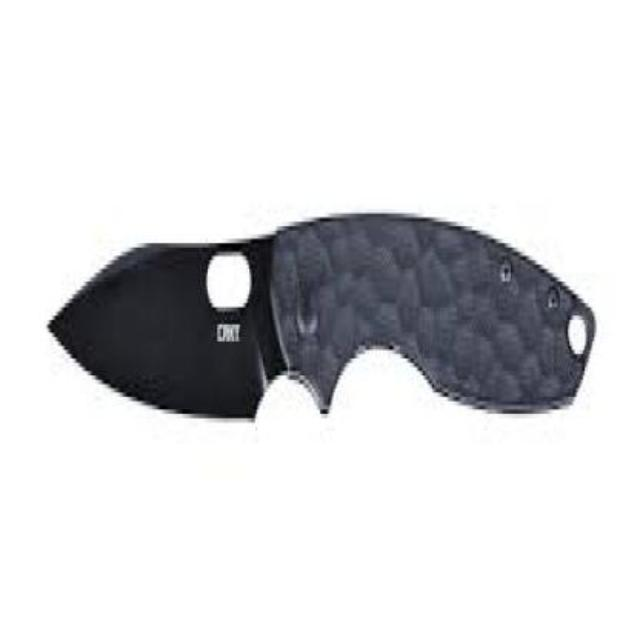Knife: (49, 214, 596, 423)
